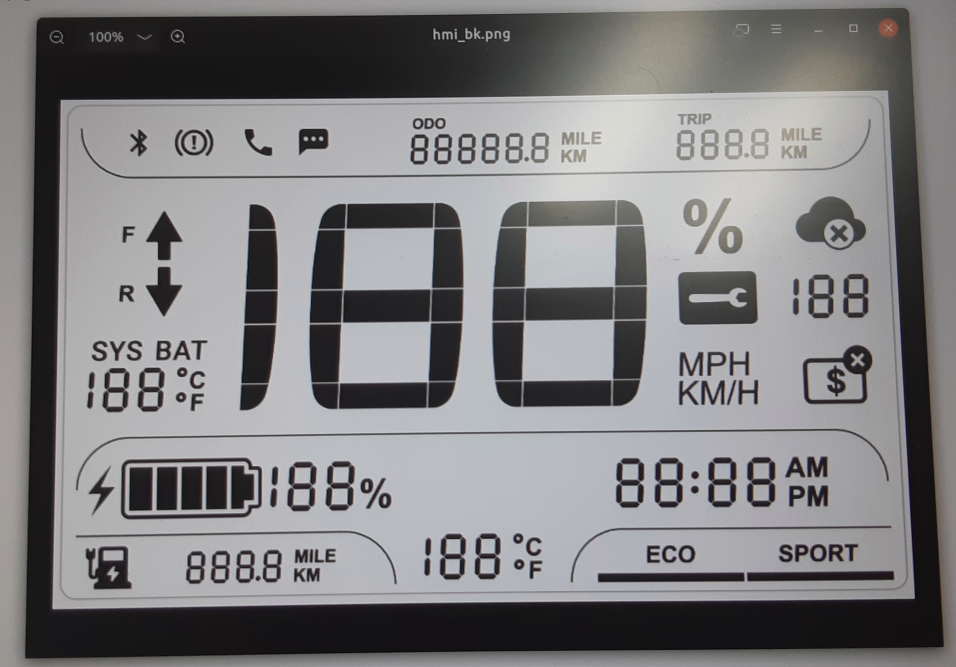bluetooth_on: (124, 125, 151, 161)
braking_on: (171, 124, 218, 160)
calling_on: (240, 125, 276, 162)
connection_lost: (791, 194, 869, 252)
error_code: (674, 267, 761, 328)
low_battery: (81, 542, 136, 592)
sms_on: (294, 124, 332, 160)
vin_id: (799, 341, 876, 408)
